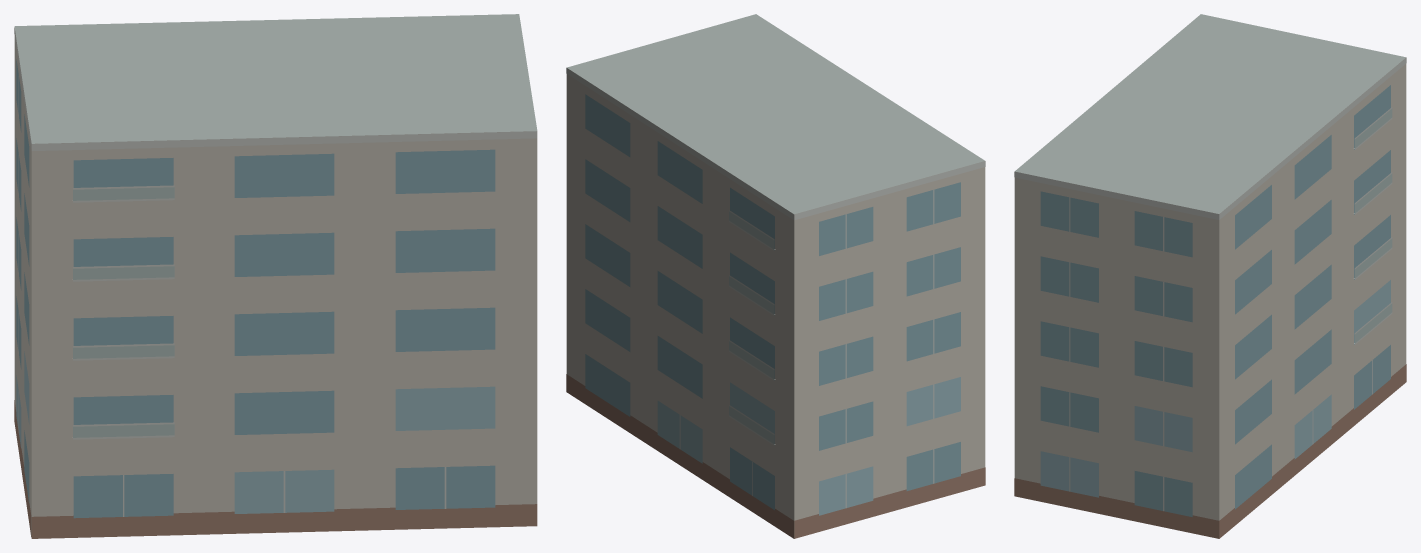
The model's file is survey-upis-32854322.glb.
3 views of the same model, side by side, from view 1: azimuth 30°, elevation 25°; view 2: azimuth 150°, elevation 25°; view 3: azimuth 270°, elevation 25° (orthographic). The views are drawn at different scales.
Parts seen in each view (by area): view 1: survey-upis-32854322.tmp; view 2: survey-upis-32854322.tmp; view 3: survey-upis-32854322.tmp.
Boxes of the visible parts, x1,y1,x2,y2 form: survey-upis-32854322.tmp: (14,14,537,538); survey-upis-32854322.tmp: (566,14,985,538); survey-upis-32854322.tmp: (1014,14,1406,538).
Size of the model in its own units: 17.45 by 13.2 by 14.45.
